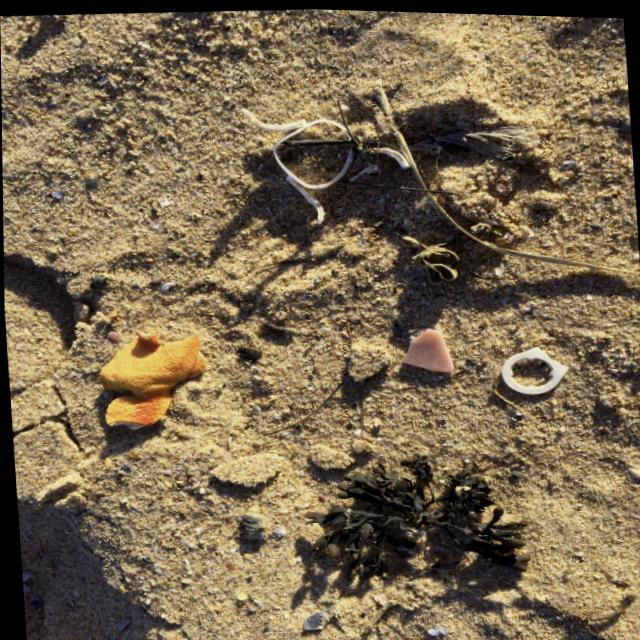Bottle-Glass: (392, 318, 458, 381)
Plastic: (239, 98, 361, 230), (493, 338, 573, 401), (367, 141, 414, 171)
